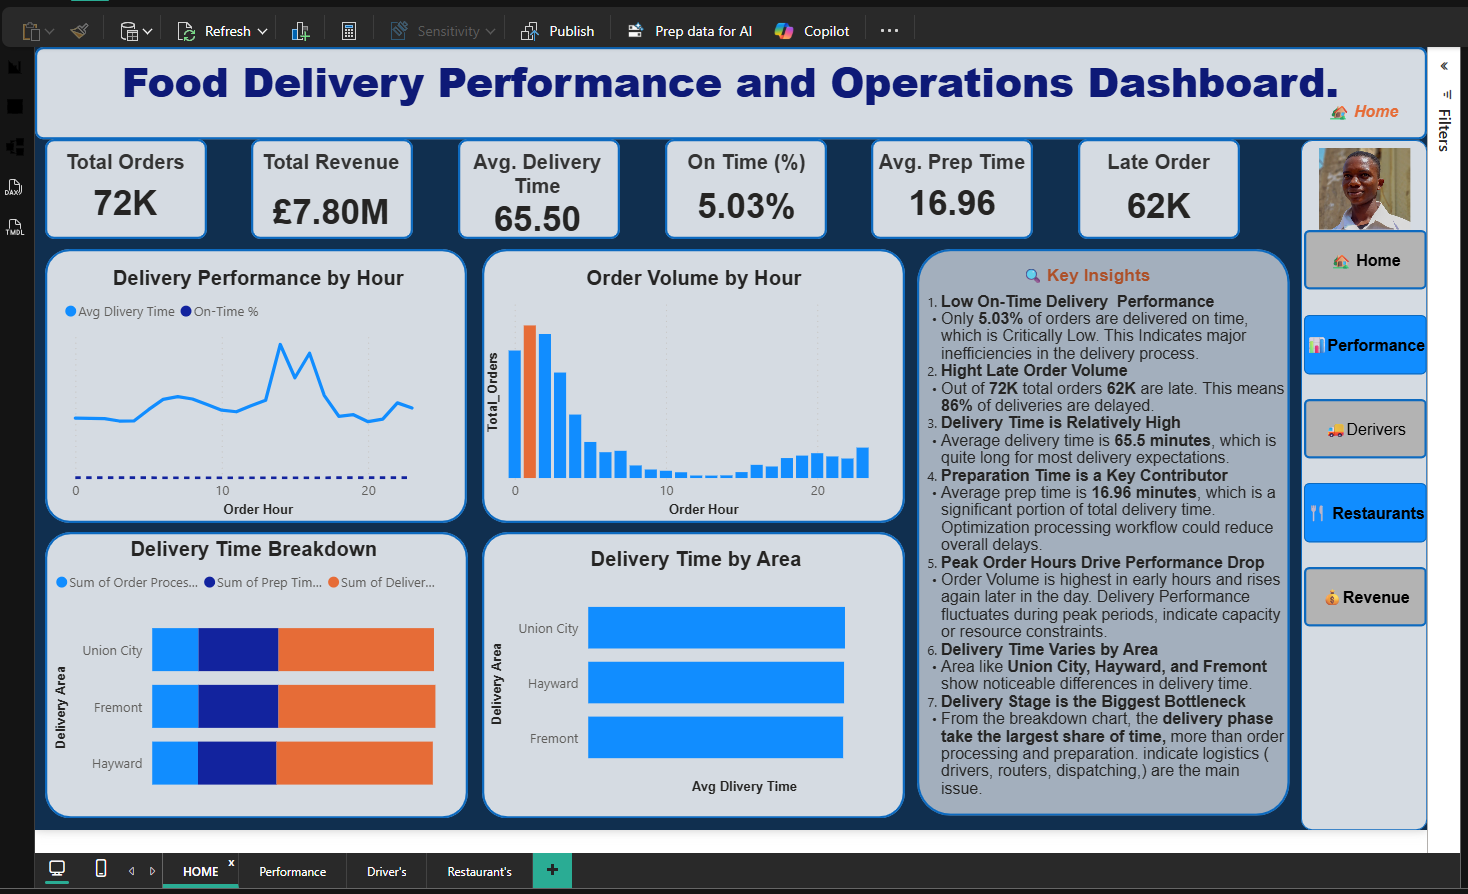

Layout of this report page (visuals, bound fields, positions):
{"tool":"powerbi","page":{"name":"HOME","canvas":[1280,720],"ordinal":0},"visuals":[{"type":"shape","box":[1163.9,85.3,116.1,634.9],"z":0},{"type":"shape","box":[810.7,185.3,342.6,521.2],"z":1000},{"type":"shape","title":"Home","box":[1166.5,168.6,112.8,54.6],"z":2000},{"type":"shape","box":[834.9,194,272.2,33.8],"z":3000},{"type":"shape","box":[0,0,1280,84.9],"z":4000},{"type":"shape","box":[9.3,84.9,148.9,91.9],"z":5000},{"type":"shape","box":[199,84.9,148.9,91.9],"z":6000},{"type":"shape","box":[388.7,84.9,148.9,91.9],"z":7000},{"type":"shape","box":[769.2,84.9,148.9,91.9],"z":8000},{"type":"shape","box":[579.5,84.9,148.9,91.9],"z":9000},{"type":"shape","box":[958.8,84.9,148.9,91.9],"z":10000},{"type":"shape","box":[9.7,185.3,388,251.9],"z":11000},{"type":"shape","box":[9.7,445.9,389,263.5],"z":12000},{"type":"shape","box":[411.2,185.3,389,251.9],"z":13000},{"type":"shape","box":[411.2,445.9,389,263.5],"z":14000},{"type":"card","title":"Total Orders","fields":{"Values":["Measure.Total_Orders"]},"box":[14,95.4,138.5,72.1],"z":15000},{"type":"card","title":"Total Revenue ","fields":{"Values":["Sum(Food Delivery.Total Revenue)"]},"box":[195.5,95.4,152.4,89.6],"z":16000},{"type":"card","title":"Avg. Delivery Time","fields":{"Values":["Measure.Avg Dlivery Time"]},"box":[386.3,95.4,151.3,81.5],"z":17000},{"type":"card","title":"On Time (%)","fields":{"Values":["Measure.On-Time %"]},"box":[590,95.4,128,78],"z":18000},{"type":"card","title":"Avg. Prep Time","fields":{"Values":["Measure.Avg Prep Time"]},"box":[765.7,95.4,154.8,72.1],"z":19000},{"type":"card","title":"Late Order","fields":{"Values":["Measure.Late Orders"]},"box":[969.3,95.4,128,78],"z":20000},{"type":"lineChart","title":"Delivery Performance by Hour","fields":{"Y":["Measure.Avg Dlivery Time","Measure.On-Time %"],"Category":["Food Delivery.Order Hour"]},"box":[22.1,202.5,366.5,235.1],"z":21000},{"type":"columnChart","title":"Order Volume by Hour","fields":{"Category":["Food Delivery.Order Hour"],"Y":["Measure.Total_Orders"]},"box":[410.8,202.5,389.8,235.1],"z":22000},{"type":"barChart","title":"Delivery  Time Breakdown","fields":{"Category":["Food Delivery.Delivery Area"],"Y":["Sum(Food Delivery.Processing Clean)","Sum(Food Delivery.Prep Time Clean)","Sum(Food Delivery.Delivery Travel Clean)"]},"box":[14,451.5,374.7,254.8],"z":23000},{"type":"clusteredBarChart","title":"Delivery Time by Area","fields":{"Category":["Food Delivery.Delivery Area"],"Y":["Measure.Avg Dlivery Time"]},"box":[414.3,460.8,386.3,231.6],"z":24000},{"type":"textbox","box":[809.9,221.1,344.4,499.2],"z":25000},{"type":"textbox","box":[889.6,196.2,160.3,27.7],"z":26000},{"type":"textbox","box":[24.9,0,1228.9,77.2],"z":27000},{"type":"shape","title":"Home","box":[1166.5,246.1,112.8,54.6],"z":28000},{"type":"shape","title":"Home","box":[1166.5,323.6,112.8,54.6],"z":29000},{"type":"shape","title":"Home","box":[1166.5,401,112.8,54.6],"z":30000},{"type":"shape","title":"Home","box":[1166.5,478.5,112.8,54.6],"z":31000},{"type":"image","box":[1180.4,92.5,84.2,75],"z":32000},{"type":"textbox","box":[1183.4,43.1,95.4,36.1],"z":33000}]}

Visuals, with their boxes on the page's 1280x720 design canvas (x1, y1, x2, y2). These are canvas units, not pixel positions in the 1468x894 screenshot, which may show the page scaled, cropped or inside an application window:
shape: box(1164, 85, 1280, 720)
shape: box(811, 185, 1153, 706)
"Home" shape: box(1166, 169, 1279, 223)
shape: box(835, 194, 1107, 228)
shape: box(0, 0, 1280, 85)
shape: box(9, 85, 158, 177)
shape: box(199, 85, 348, 177)
shape: box(389, 85, 538, 177)
shape: box(769, 85, 918, 177)
shape: box(580, 85, 728, 177)
shape: box(959, 85, 1108, 177)
shape: box(10, 185, 398, 437)
shape: box(10, 446, 399, 709)
shape: box(411, 185, 800, 437)
shape: box(411, 446, 800, 709)
"Total Orders" card: box(14, 95, 152, 168)
"Total Revenue " card: box(196, 95, 348, 185)
"Avg. Delivery Time" card: box(386, 95, 538, 177)
"On Time (%)" card: box(590, 95, 718, 173)
"Avg. Prep Time" card: box(766, 95, 920, 168)
"Late Order" card: box(969, 95, 1097, 173)
"Delivery Performance by Hour" lineChart: box(22, 202, 389, 438)
"Order Volume by Hour" columnChart: box(411, 202, 801, 438)
"Delivery  Time Breakdown" barChart: box(14, 452, 389, 706)
"Delivery Time by Area" clusteredBarChart: box(414, 461, 801, 692)
textbox: box(810, 221, 1154, 720)
textbox: box(890, 196, 1050, 224)
textbox: box(25, 0, 1254, 77)
"Home" shape: box(1166, 246, 1279, 301)
"Home" shape: box(1166, 324, 1279, 378)
"Home" shape: box(1166, 401, 1279, 456)
"Home" shape: box(1166, 478, 1279, 533)
image: box(1180, 92, 1265, 168)
textbox: box(1183, 43, 1279, 79)
